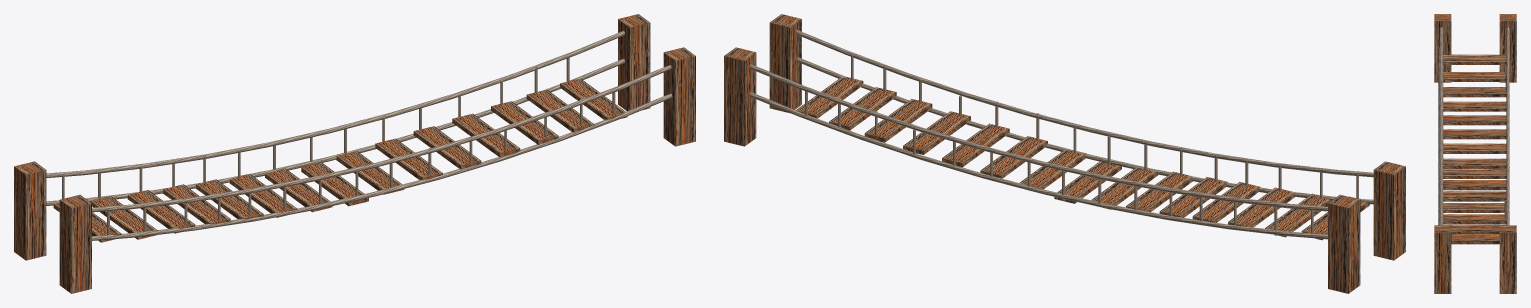
Rendered from bridge.obj.
3 renders of one model, left to right at view 1: azimuth 30°, elevation 25°; view 2: azimuth 150°, elevation 25°; view 3: azimuth 270°, elevation 25°, orthographic. The views are drawn at different scales.
Visible parts, largest first — view 1: Cylinder1, Cylinder, Box, Box1, Box2, Cylinder33, Box3, Cylinder32, Box15, Box14, Box16, Box17 (+11 smaller); view 2: Cylinder, Cylinder32, Cylinder1, Box1, Box, Box3, Box2, Cylinder33, Box16, Box15, Box14, Box13 (+10 smaller); view 3: Box3, Box2, Box, Box1, Cylinder, Cylinder1, Box7, Box13, Box14, Box6, Box8, Box10 (+10 smaller).
Boxes of the visible parts, x1=… form: Cylinder1: x1=92, y1=65, x2=671, y2=212; Cylinder: x1=46, y1=31, x2=624, y2=178; Box: x1=14, y1=161, x2=46, y2=260; Box1: x1=59, y1=194, x2=91, y2=293; Box2: x1=663, y1=47, x2=695, y2=146; Cylinder33: x1=92, y1=93, x2=672, y2=240; Box3: x1=618, y1=14, x2=650, y2=110; Cylinder32: x1=46, y1=58, x2=624, y2=205; Box15: x1=452, y1=113, x2=520, y2=157; Box14: x1=413, y1=126, x2=481, y2=169; Box16: x1=491, y1=101, x2=558, y2=144; Box17: x1=526, y1=89, x2=594, y2=132; Cylinder: x1=749, y1=64, x2=1327, y2=211; Cylinder32: x1=749, y1=92, x2=1327, y2=239; Cylinder1: x1=796, y1=30, x2=1373, y2=177; Box1: x1=1373, y1=161, x2=1405, y2=260; Box: x1=1328, y1=194, x2=1360, y2=293; Box3: x1=724, y1=47, x2=756, y2=146; Box2: x1=769, y1=14, x2=801, y2=113; Cylinder33: x1=796, y1=57, x2=1373, y2=204; Box16: x1=864, y1=99, x2=932, y2=142; Box15: x1=903, y1=111, x2=970, y2=154; Box14: x1=942, y1=123, x2=1009, y2=167; Box13: x1=980, y1=136, x2=1047, y2=178; Box3: x1=1499, y1=225, x2=1516, y2=293; Box2: x1=1434, y1=225, x2=1451, y2=293; Box: x1=1499, y1=14, x2=1516, y2=82; Box1: x1=1434, y1=14, x2=1451, y2=82; Cylinder: x1=1506, y1=27, x2=1509, y2=225; Cylinder1: x1=1439, y1=27, x2=1442, y2=225; Box7: x1=1439, y1=115, x2=1506, y2=125; Box13: x1=1439, y1=180, x2=1506, y2=190; Box14: x1=1439, y1=191, x2=1506, y2=201; Box6: x1=1439, y1=101, x2=1506, y2=111; Box8: x1=1439, y1=129, x2=1506, y2=139; Box10: x1=1439, y1=54, x2=1506, y2=64.
Size of the model in its own units: 15.25 by 2 by 2.43.
Materials: 2 (2 with a texture image).
